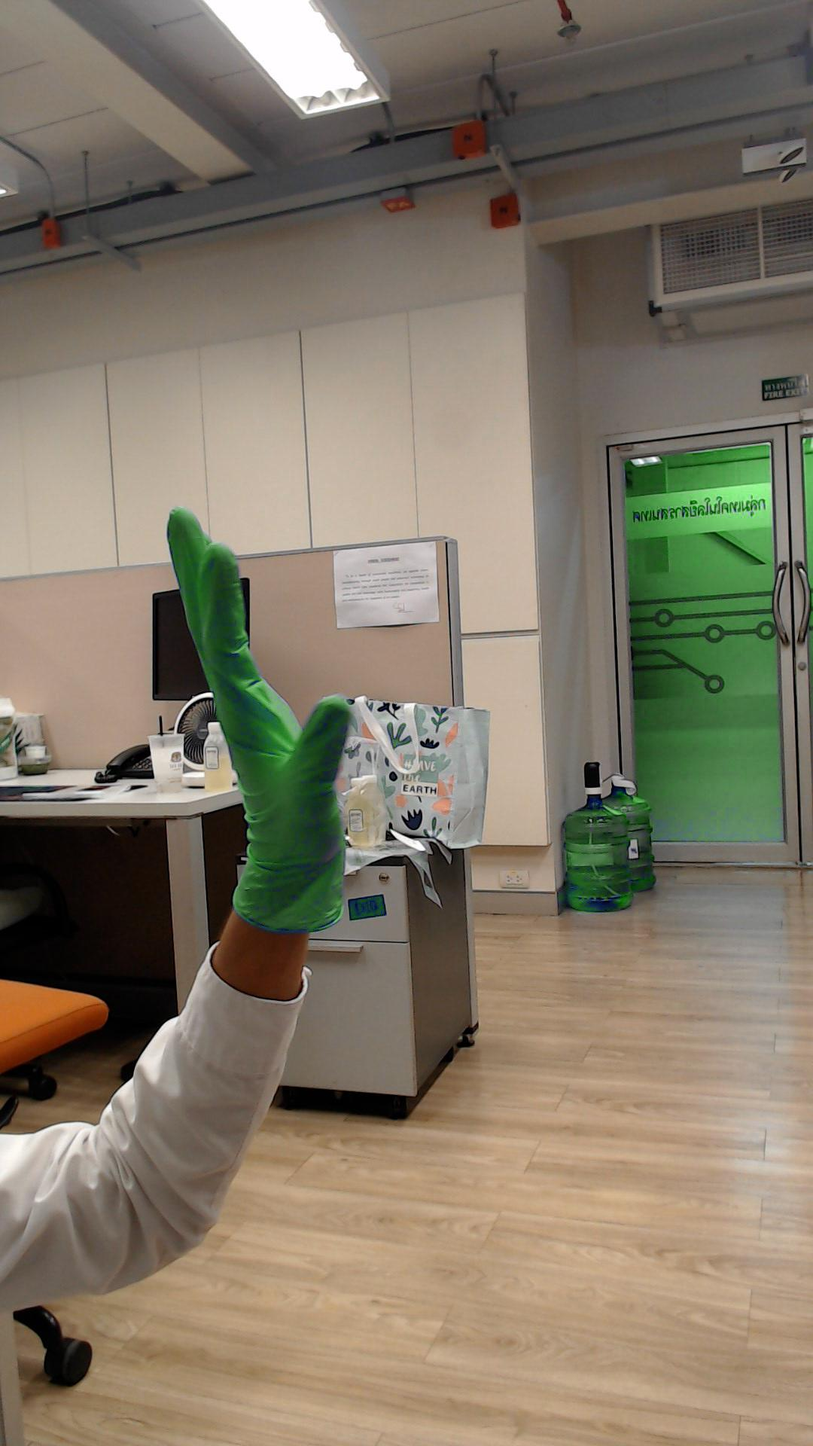gloves: (156, 493, 370, 881)
